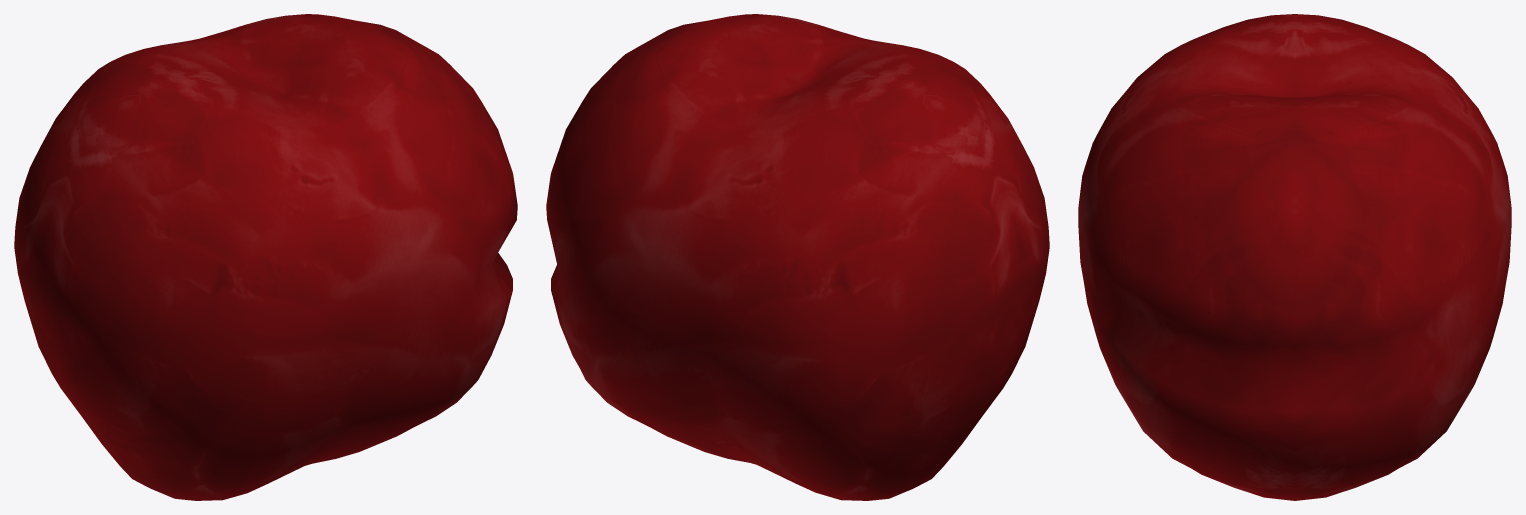
The model's file is mCerise2outline.FBX.
3 renders of one model, left to right at view 1: azimuth 30°, elevation 25°; view 2: azimuth 150°, elevation 25°; view 3: azimuth 270°, elevation 25°, orthographic.
Visible parts, largest first — view 1: Cerise_Positif_02_OUTLINE; view 2: Cerise_Positif_02_OUTLINE; view 3: Cerise_Positif_02_OUTLINE.
Boxes of the visible parts, x1=… form: Cerise_Positif_02_OUTLINE: x1=14, y1=14, x2=517, y2=500; Cerise_Positif_02_OUTLINE: x1=546, y1=14, x2=1049, y2=500; Cerise_Positif_02_OUTLINE: x1=1078, y1=14, x2=1511, y2=500.
Bounding box in the file's own units: 1.12 × 0.9926 × 0.945.
